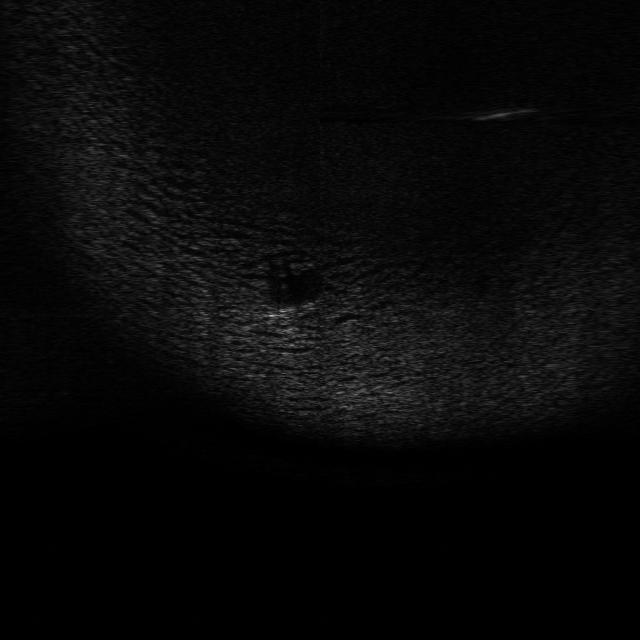plane: (269, 292, 322, 329)
